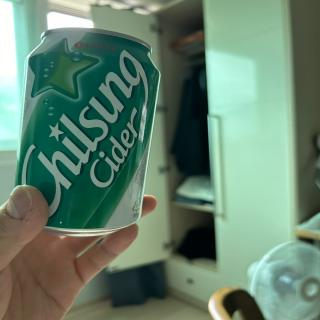cocacola: (12, 24, 165, 242)
